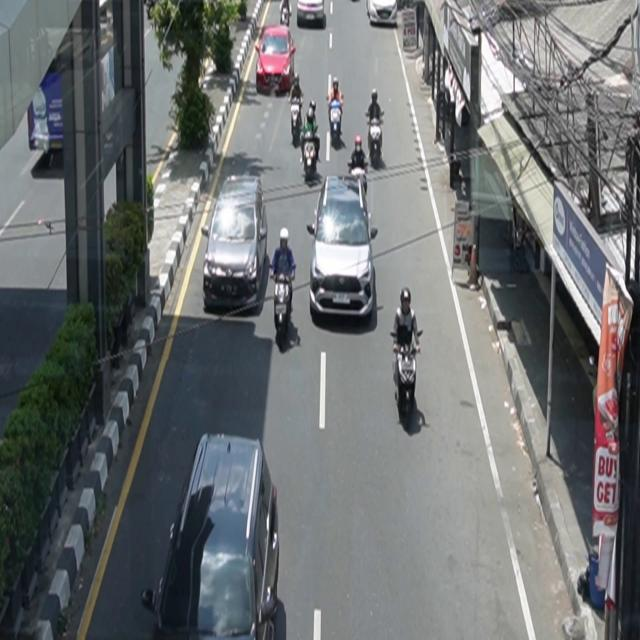car: (141, 433, 281, 640), (307, 174, 379, 322), (203, 175, 269, 314), (255, 26, 297, 97), (367, 1, 399, 27)
